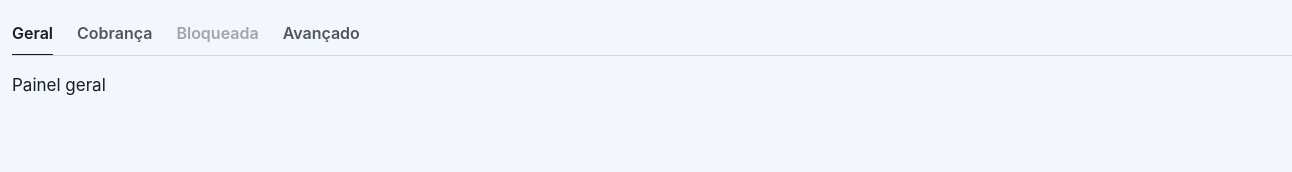
Scenario: Tabs › chooses a tab on click
Click the tab "Avançado" at (321, 34), box left=283, top=12, right=360, bottom=56
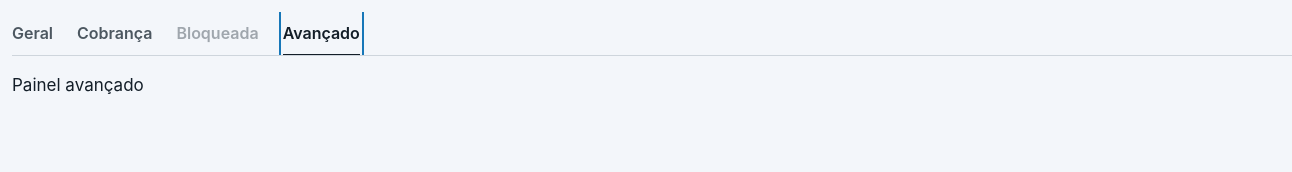
Expected: the text "Painel avançado" is shown, left=12, top=75, right=144, bottom=95
